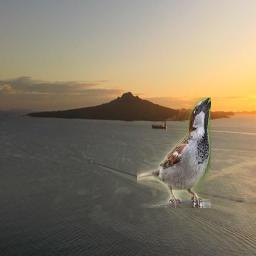Sparrow: (137, 97, 211, 208)
